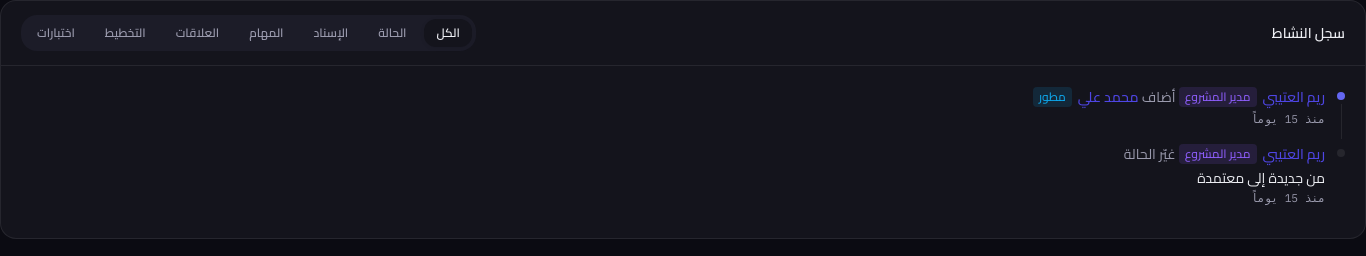
Test: TicketTimeline › filters to assignment events only
This screenshot has width=1366, height=256.
Expected: the text "أضاف" is shown, [1139,84,1176,110]
Click the button "الإسناد" at [331, 33], box [302,19,360,47]
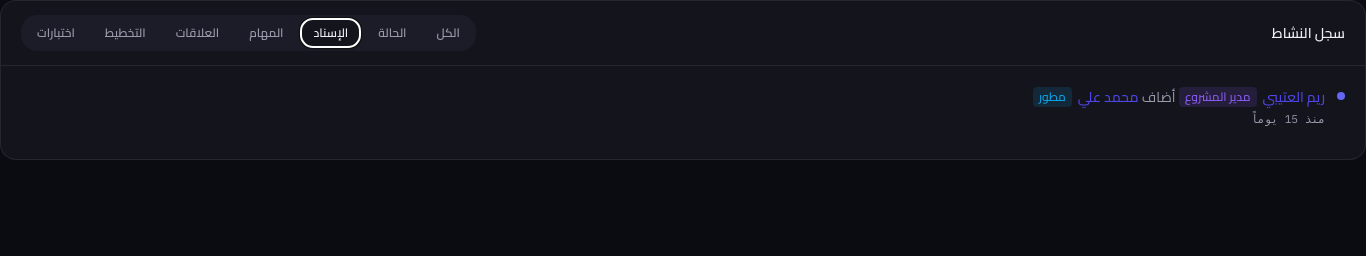
Expected: the text "أضاف" is shown, [1139,84,1176,110]
Now the text "غيّر الحالة" is gone
